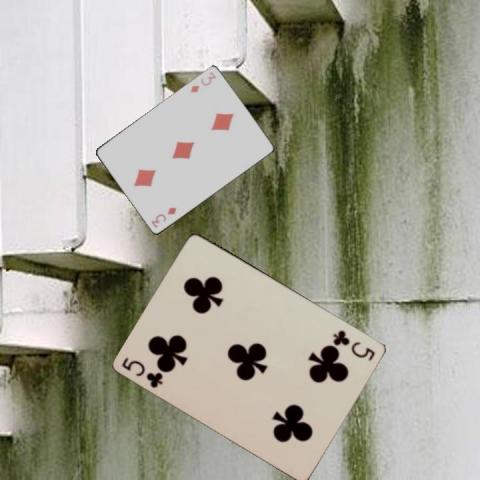3d: (188, 69, 218, 94), (148, 204, 178, 229)
5c: (331, 326, 377, 362), (120, 354, 166, 390)
